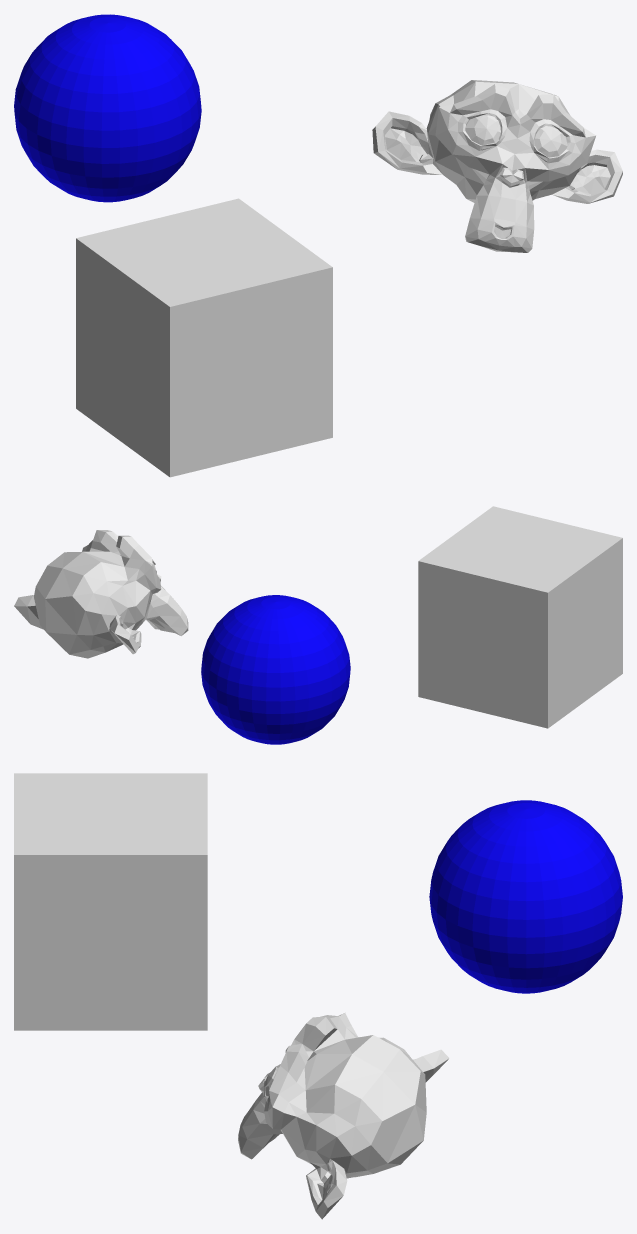
Rendered from cube-area-light.dae.
3 views of the same model, one above another, from view 1: azimuth 30°, elevation 25°; view 2: azimuth 150°, elevation 25°; view 3: azimuth 270°, elevation 25° (orthographic). The views are drawn at different scales.
Parts seen in each view (by area): view 1: Cube, Sphere, Suzanne; view 2: Cube, Sphere, Suzanne; view 3: Cube, Sphere, Suzanne.
Part boxes in pixels (x1,y1,x2,y2): Cube: [76, 198, 332, 477]; Sphere: [14, 14, 201, 202]; Suzanne: [372, 80, 622, 252]; Cube: [418, 506, 622, 728]; Sphere: [201, 595, 350, 744]; Suzanne: [14, 530, 188, 658]; Cube: [14, 773, 207, 1030]; Sphere: [429, 800, 622, 993]; Suzanne: [238, 1013, 449, 1219].
Size of what is drawn, in the model's own units: 7.43 by 6.29 by 2.66.
